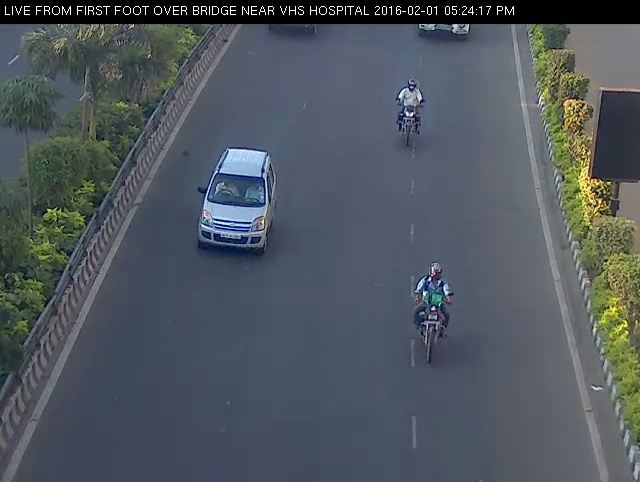Auto: (258, 13, 332, 46)
Car: (191, 145, 278, 260), (407, 18, 480, 46)
Person: (401, 252, 466, 370), (382, 68, 433, 159)
